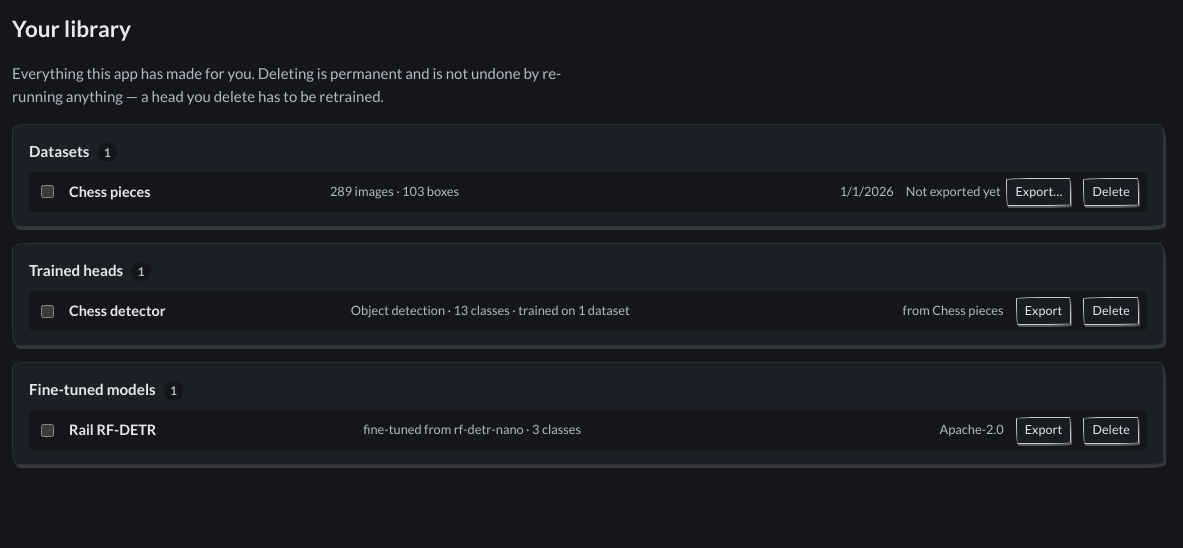
Test case: bulk delete (doc 54) › counts what is selected across all three sections
Click the checkbox named "Select Chess pieces": (48,192) [41,186,54,198]
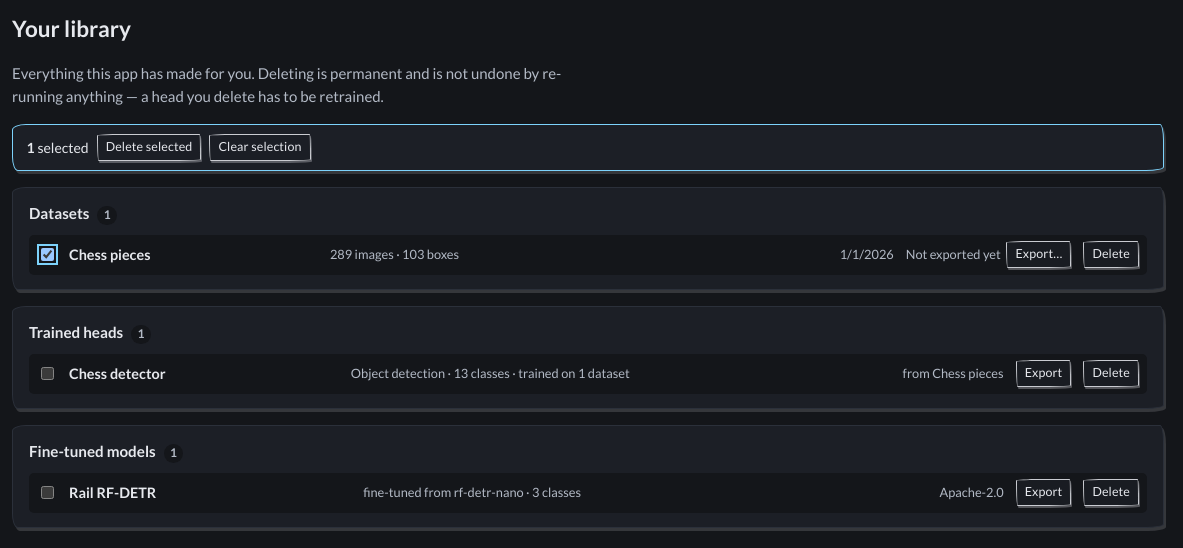
Click the checkbox named "Select Chess detector": (48,374) [41,367,54,380]
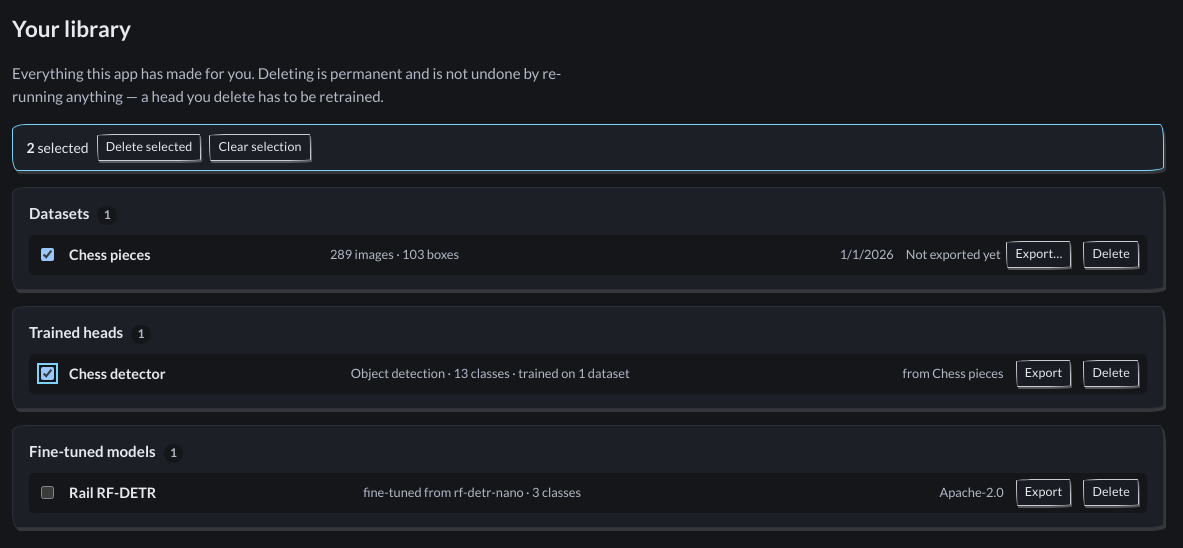
Click the checkbox named "Select Rail RF-DETR": (48,493) [41,486,54,499]
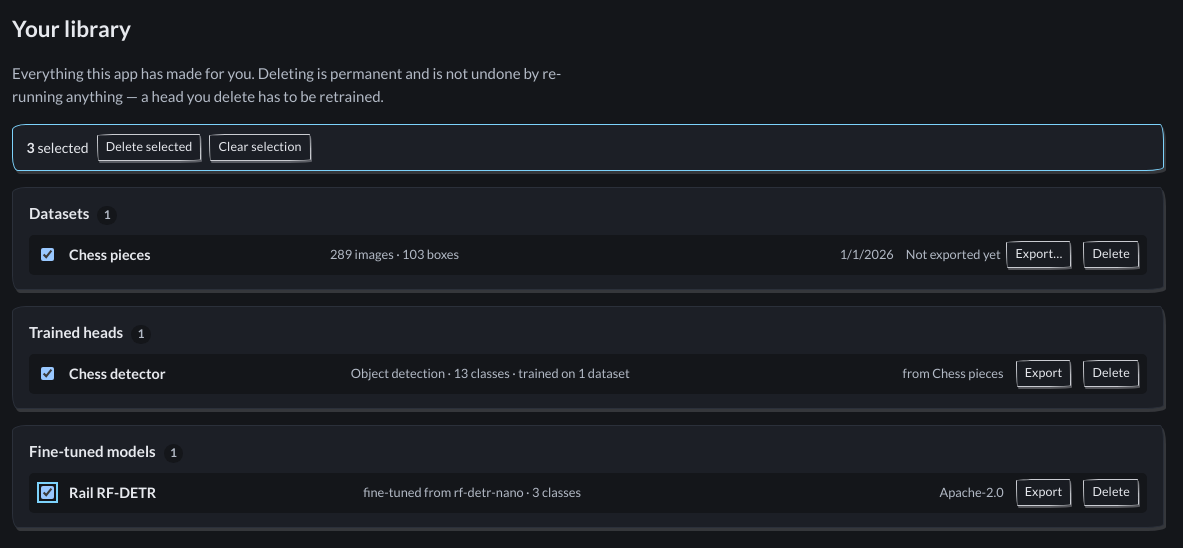
expect the text "3" is shown: met, box [27,139,35,156]
